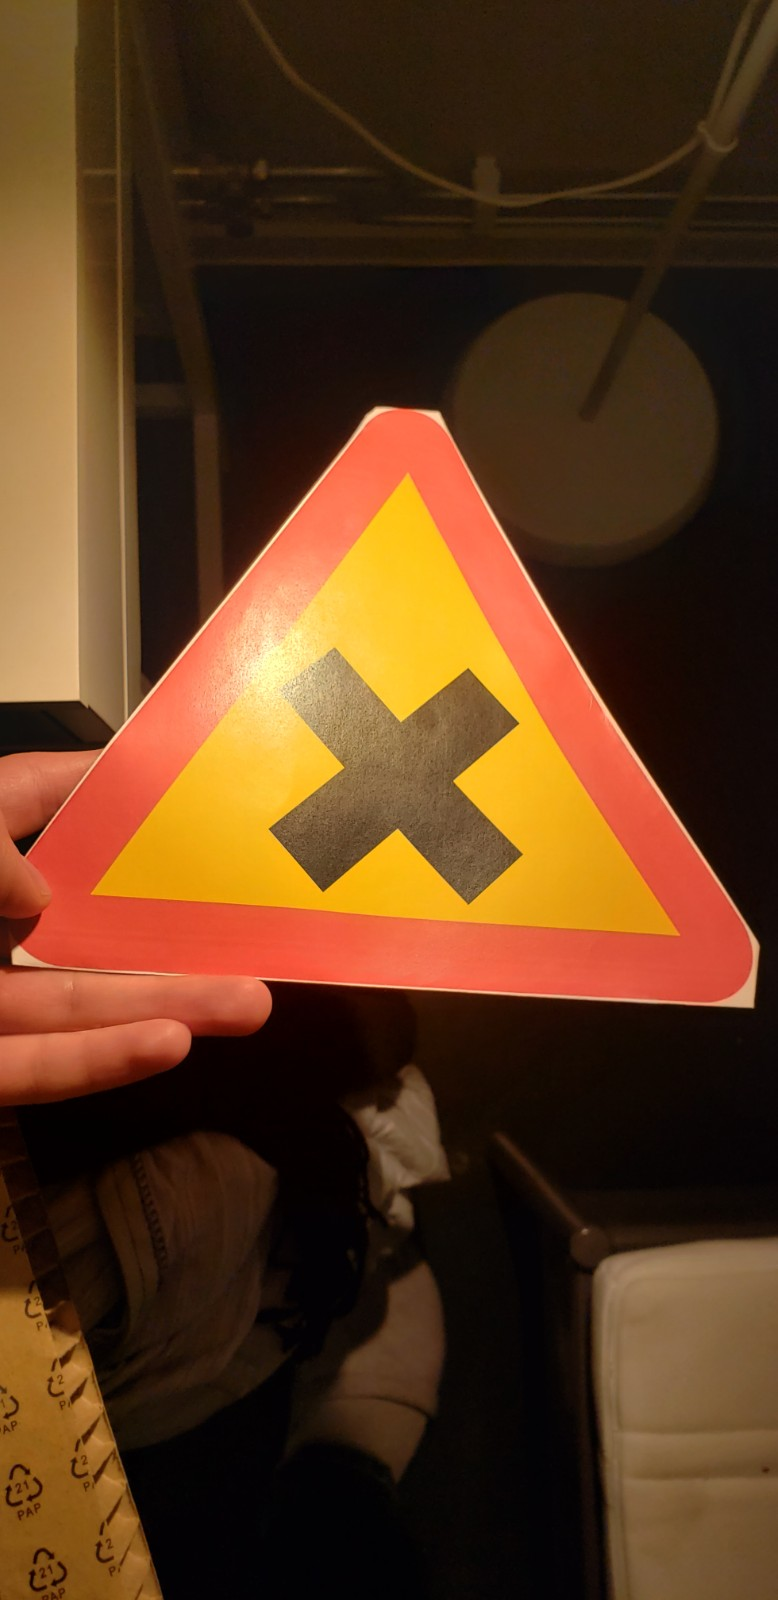junction: (35, 376, 768, 1034)
